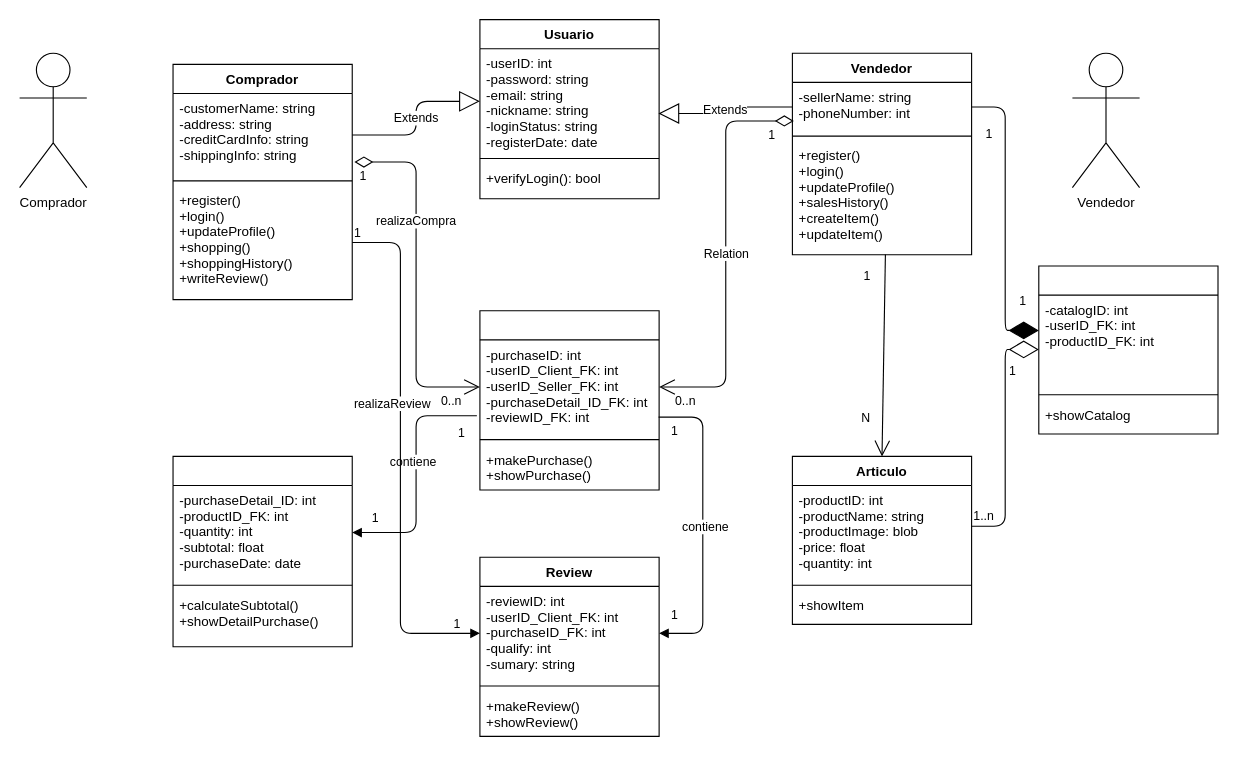
Image size: 1238x759. Some labels were removed from this diagram. Here are the shapes that lost their labels. From the top down, the box of each, then its label:
(1038, 265, 1218, 434): Catálogo
(479, 310, 659, 490): Compra
(172, 455, 352, 647): DetalleCompra
